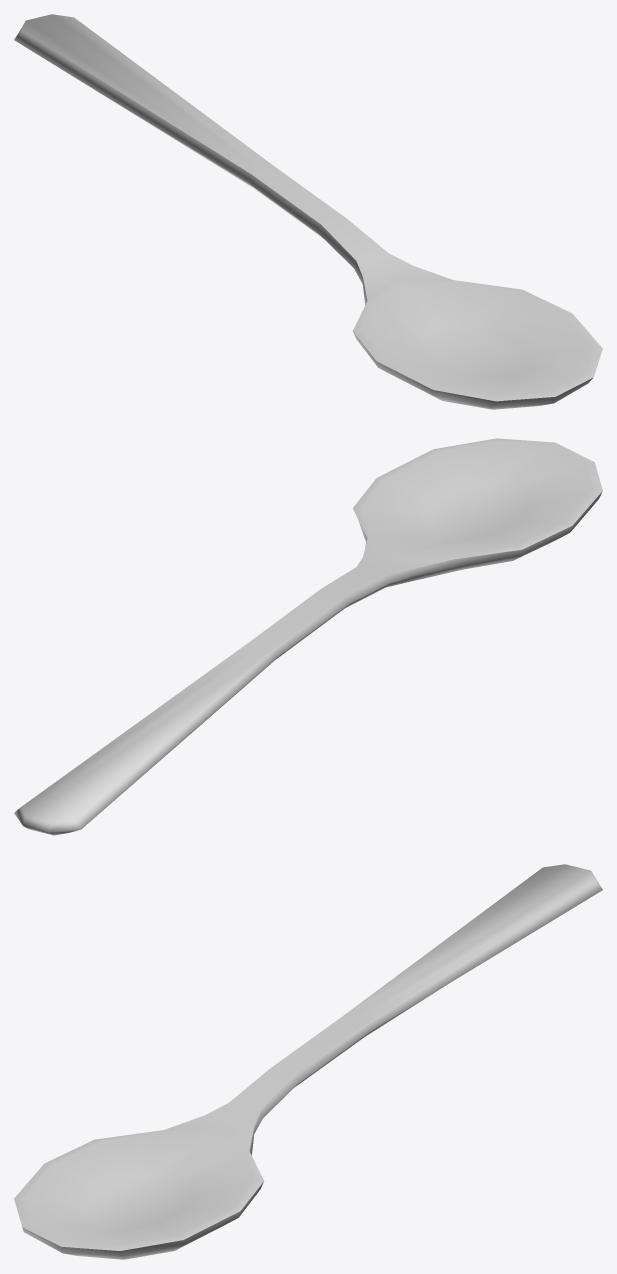
The model's file is DinnerSpoon_01.fbx.
The picture shows the model from 3 angles, top to bottom: view 1: azimuth 30°, elevation 25°; view 2: azimuth 150°, elevation 25°; view 3: azimuth 330°, elevation 25°; orthographic projection.
Visible parts, largest first — view 1: DinnerSpoon_01; view 2: DinnerSpoon_01; view 3: DinnerSpoon_01.
Part boxes in pixels (x1=…): DinnerSpoon_01: x1=14, y1=14, x2=602, y2=409; DinnerSpoon_01: x1=14, y1=438, x2=602, y2=835; DinnerSpoon_01: x1=14, y1=864, x2=602, y2=1259.
Bounding box in the file's own units: 0.0388 × 0.00799 × 0.1785.
